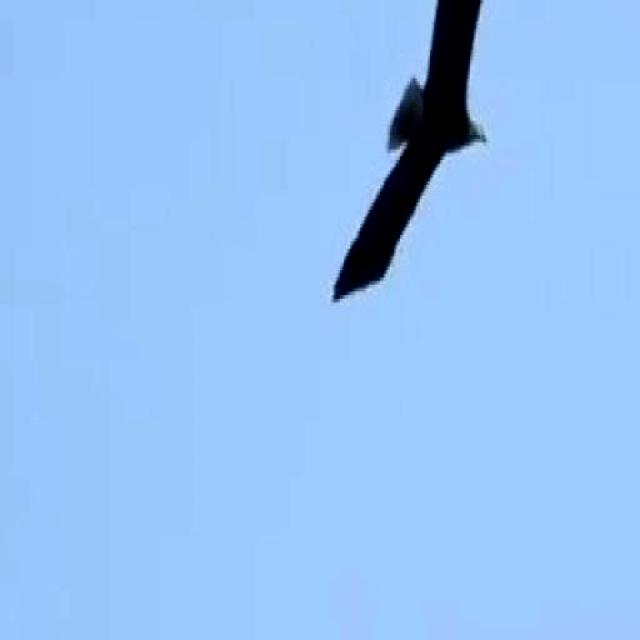airplane: (322, 0, 516, 320)
